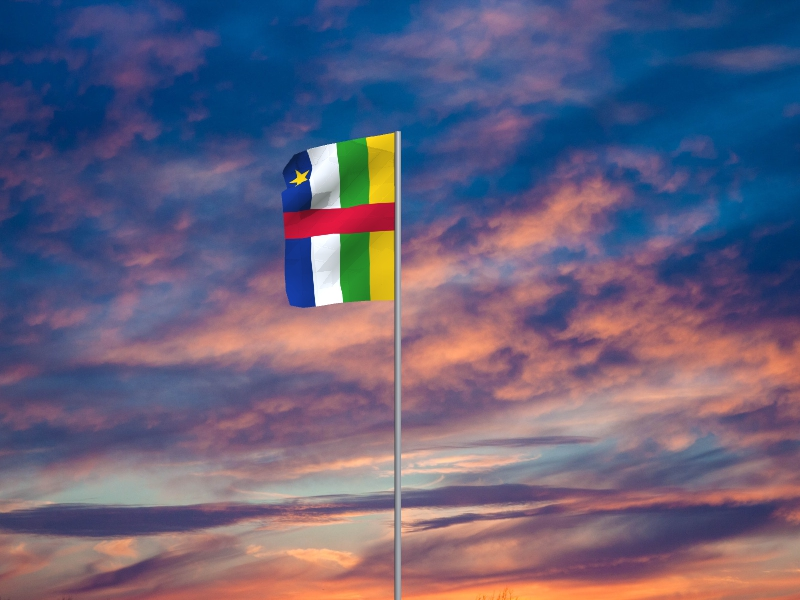cf: (281, 133, 395, 310)
